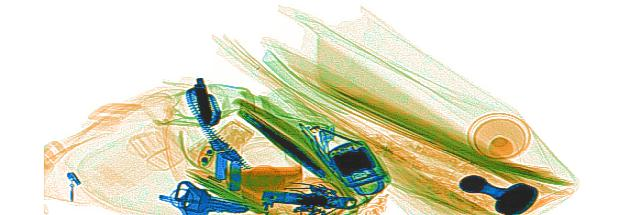seal: (465, 110, 531, 160), (459, 173, 538, 212)
